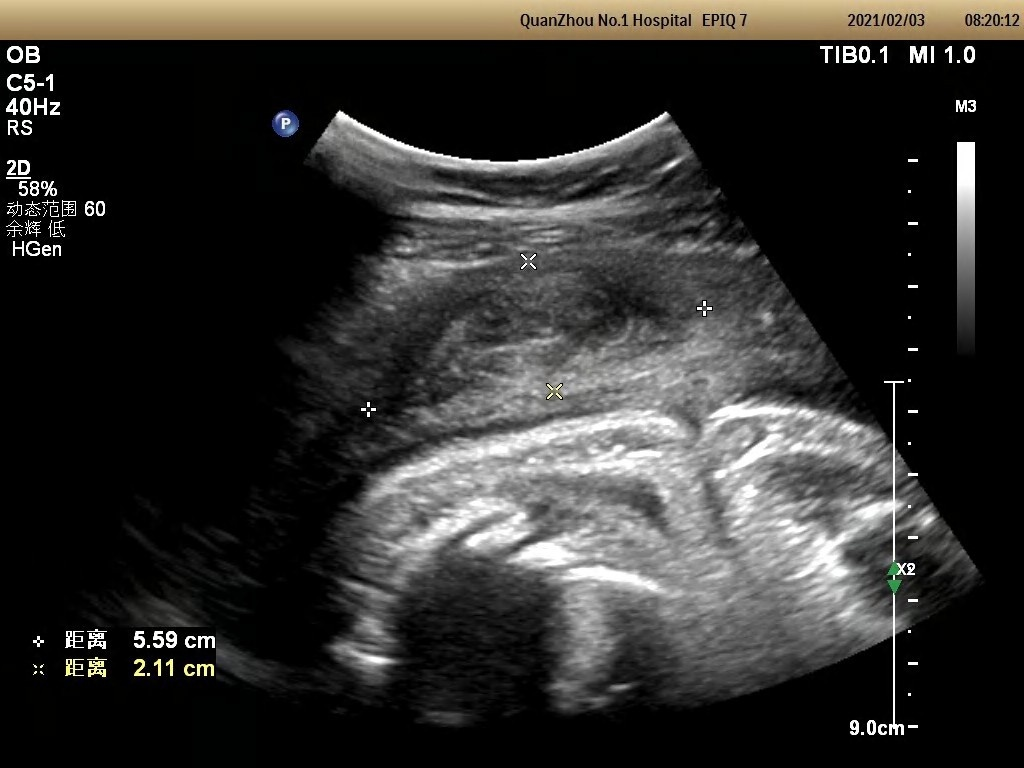肌瘤: (399, 282, 707, 387)
